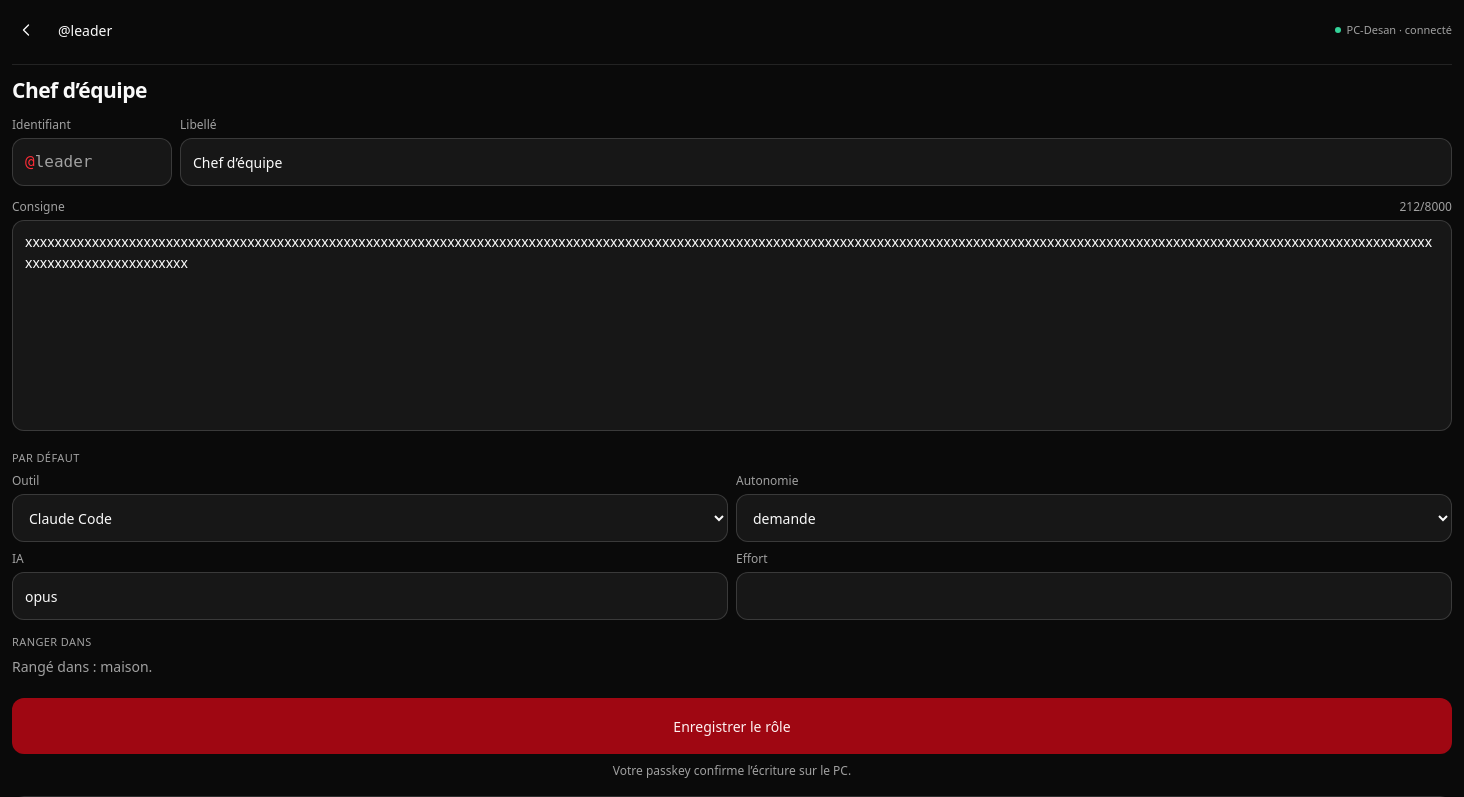
Test: the role editor › « Reprendre la version du PC » drops the unsaved text for the PC's
The image size is (1464, 797).
Step 1. Replace the text in the text box labelled "Consigne" with "Mon texte" → (732, 326), box [12,220,1452,431]
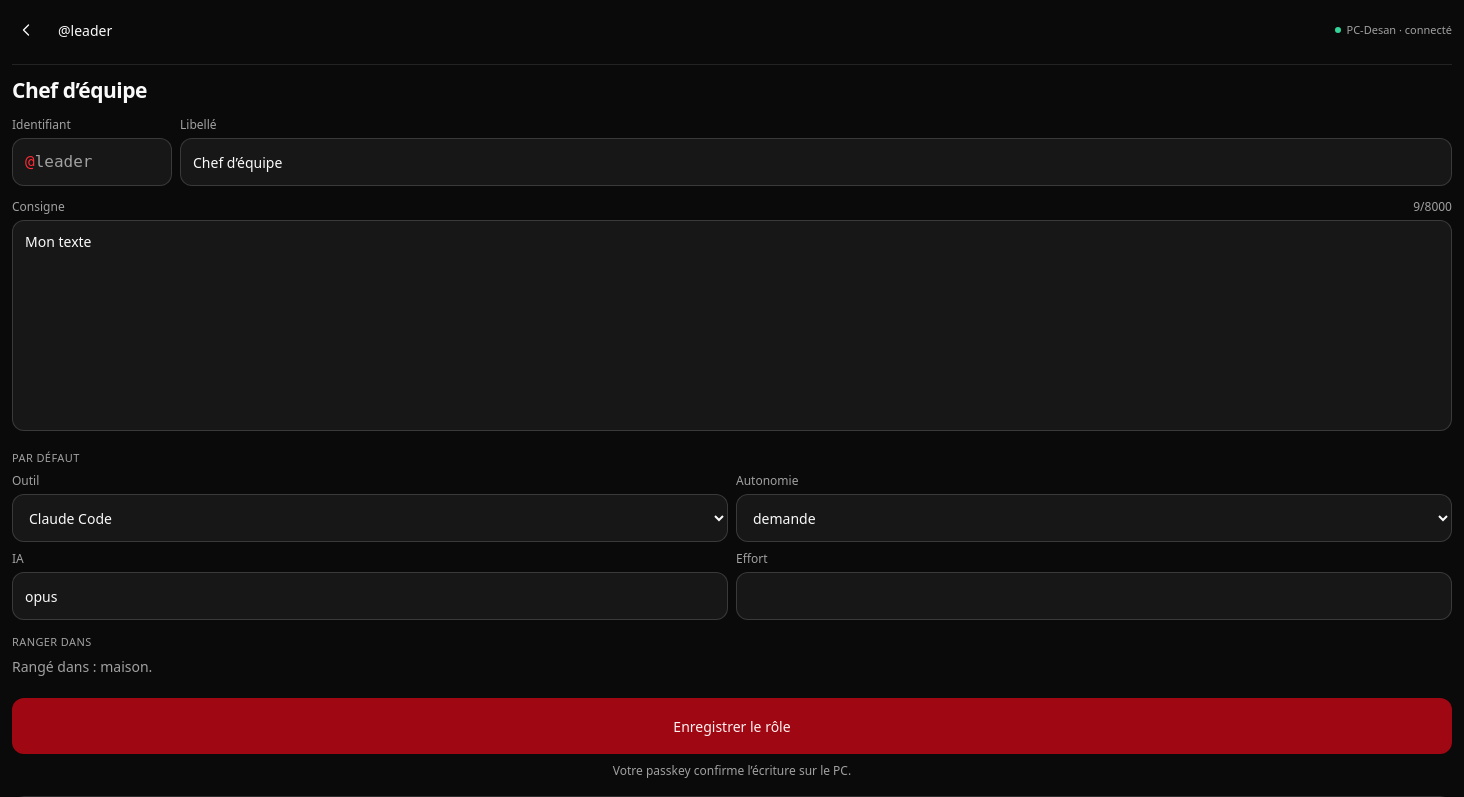
Step 2. Click the button "Enregistrer le rôle" → (732, 726), box [12,698,1452,754]
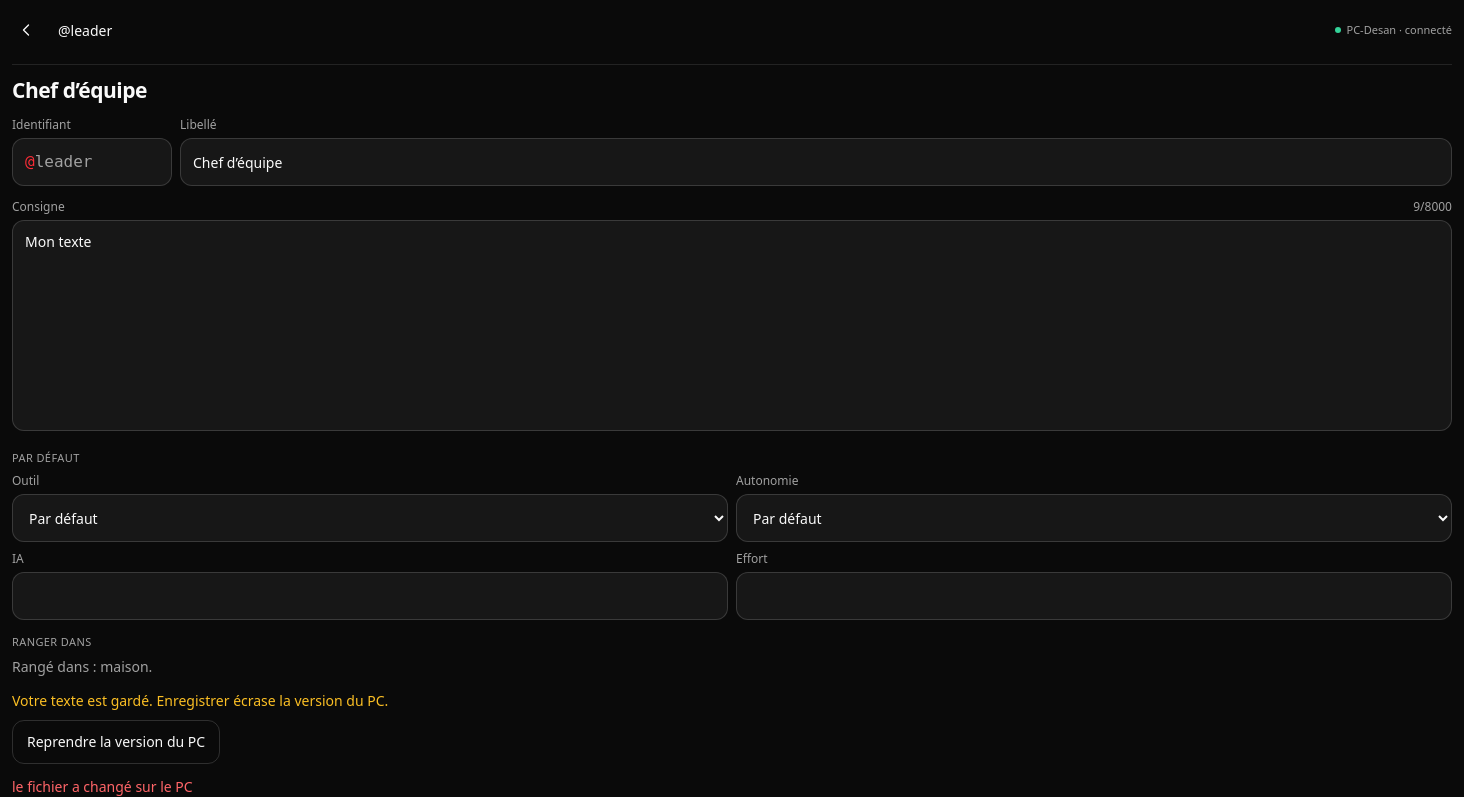
Step 3. Click the button "Reprendre la version du PC" → (116, 742), box [12,720,220,764]
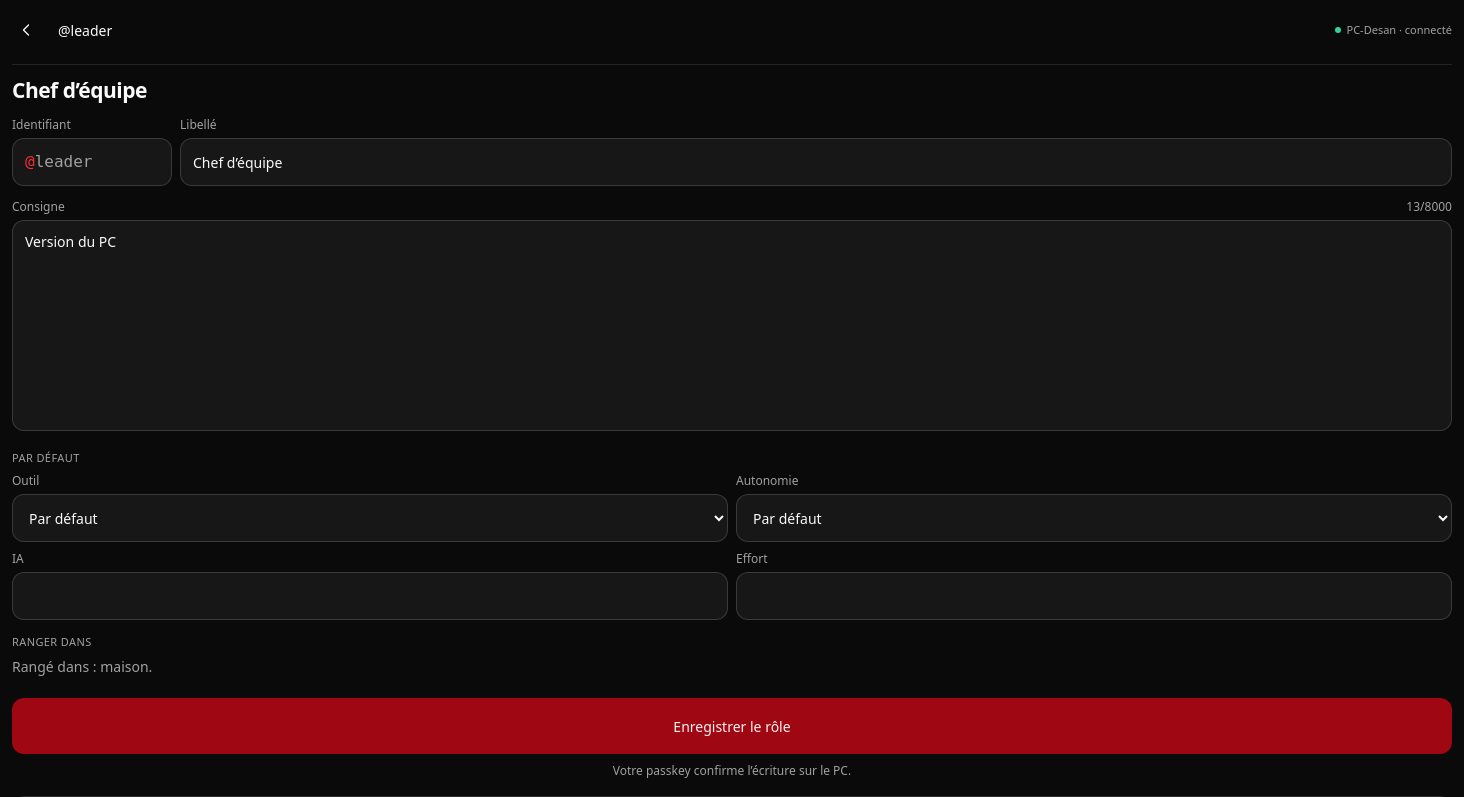
Check: the text box labelled "Consigne" holds "Version du PC", box [12,220,1452,431]
